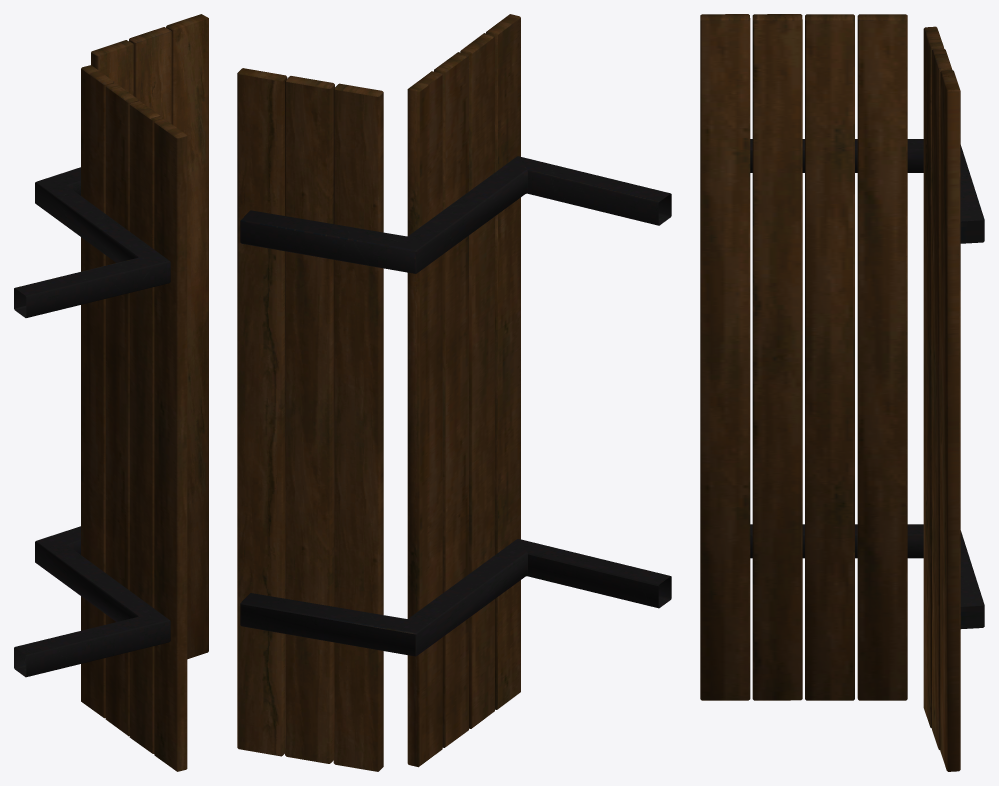
The model's file is cP_Bench02.dae.
The picture shows the model from 3 angles, left to right: view 1: azimuth 30°, elevation 25°; view 2: azimuth 150°, elevation 25°; view 3: azimuth 270°, elevation 25°; orthographic projection. The views are drawn at different scales.
Visible parts, largest first — view 1: cP_Bench02.001; view 2: cP_Bench02.001; view 3: cP_Bench02.001.
Boxes of the visible parts, box(x1,y1,x2,y2) form: cP_Bench02.001: box(14, 14, 208, 771); cP_Bench02.001: box(237, 14, 671, 771); cP_Bench02.001: box(700, 14, 984, 771).
Bounding box in the file's own units: 1.14 × 0.8884 × 2.35.
